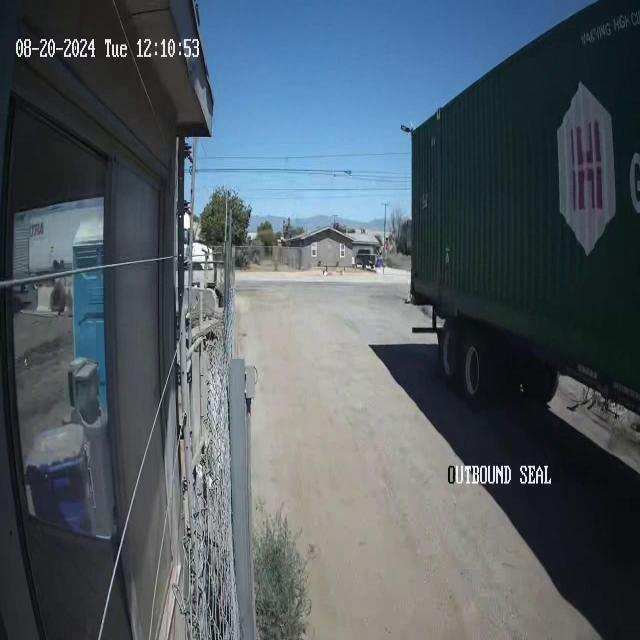TRUCK_IN: (407, 0, 639, 418)
